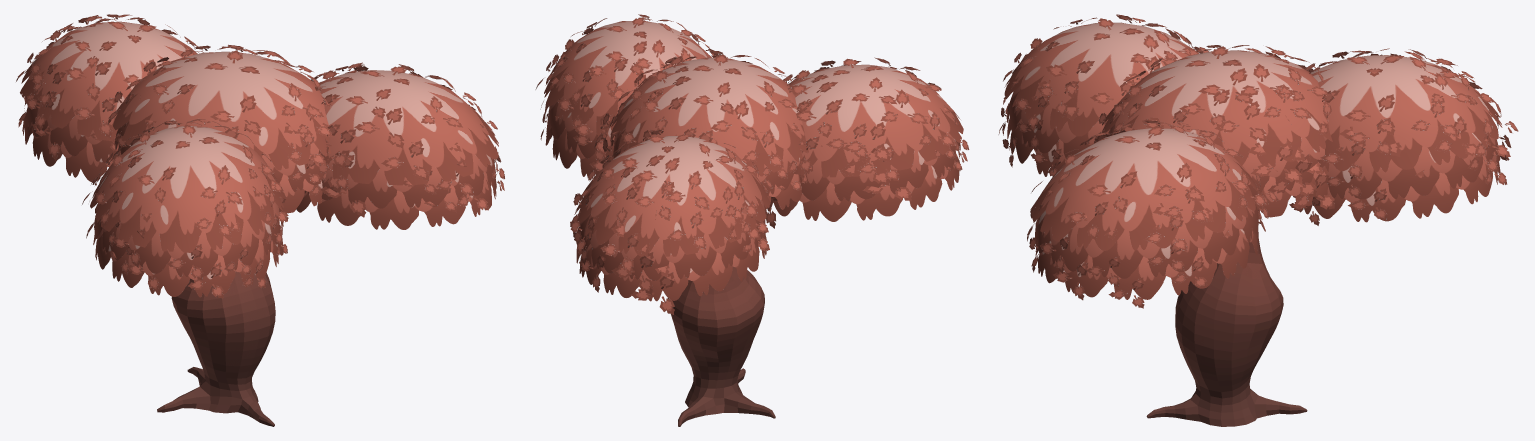
Rendered from FatThreeCrimson.fbx.
The picture shows the model from 3 angles, left to right: view 1: azimuth 30°, elevation 25°; view 2: azimuth 150°, elevation 25°; view 3: azimuth 270°, elevation 25°; orthographic projection. The views are drawn at different scales.
Visible parts, largest first — view 1: FattenThreeCrimson.001; view 2: FattenThreeCrimson.001; view 3: FattenThreeCrimson.001.
Boxes of the visible parts, box(x1,y1,x2,y2) form: FattenThreeCrimson.001: box(16, 14, 504, 426); FattenThreeCrimson.001: box(535, 14, 969, 426); FattenThreeCrimson.001: box(998, 14, 1518, 426).
Size of the model in its own units: 21.85 by 17.92 by 23.73.
3 materials, 3 textured.
